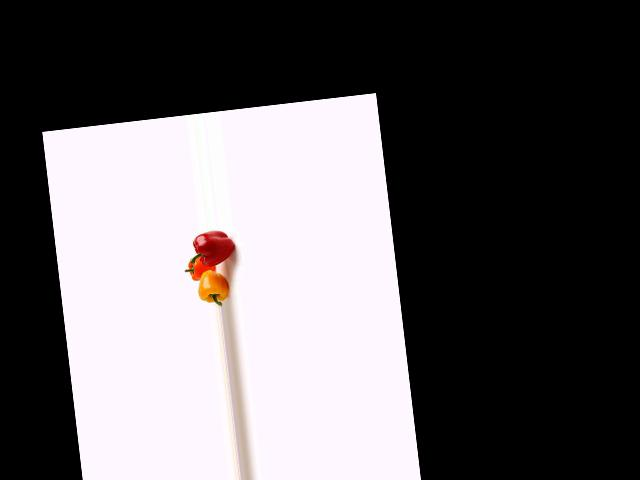bell_pepper: (183, 227, 241, 270)
